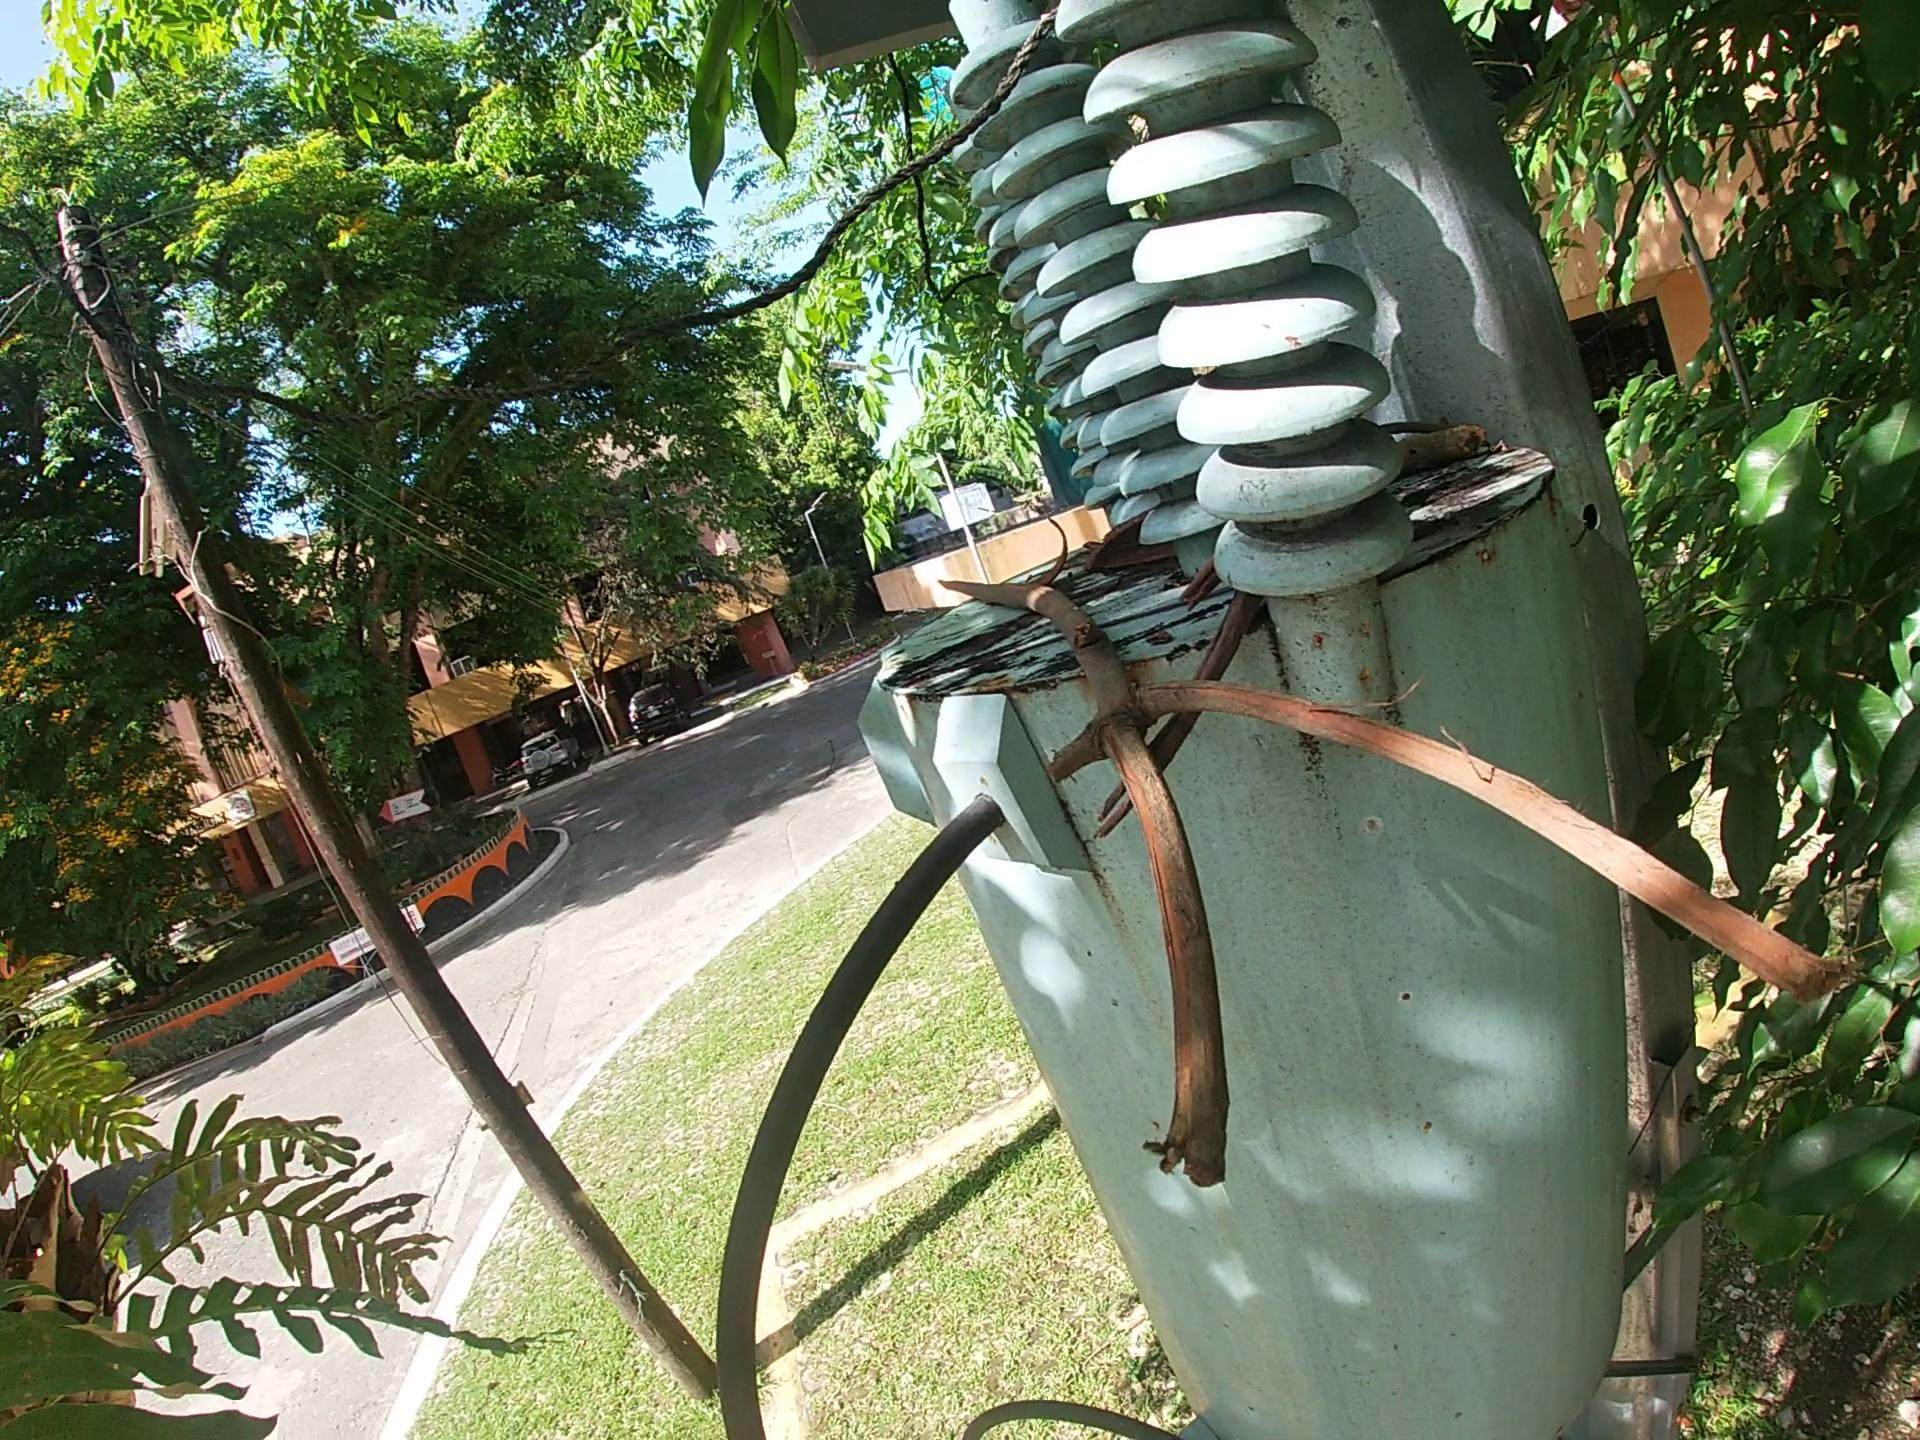mahogany fruit: (1043, 507, 1082, 585), (1081, 535, 1144, 578)
tree branch: (922, 567, 1857, 1198), (1101, 610, 1253, 855), (1391, 417, 1506, 476), (1179, 555, 1225, 616), (1376, 417, 1451, 434)
